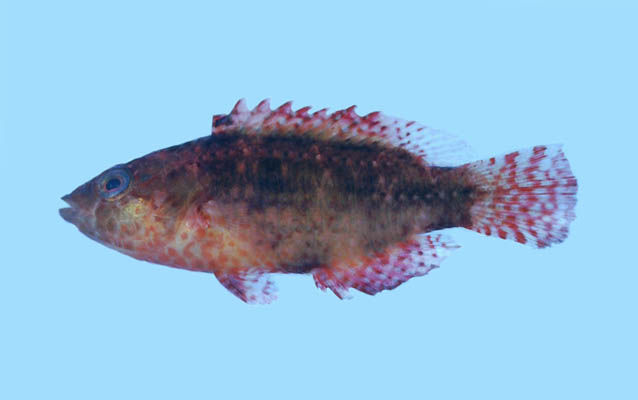fish: (58, 97, 579, 307)
